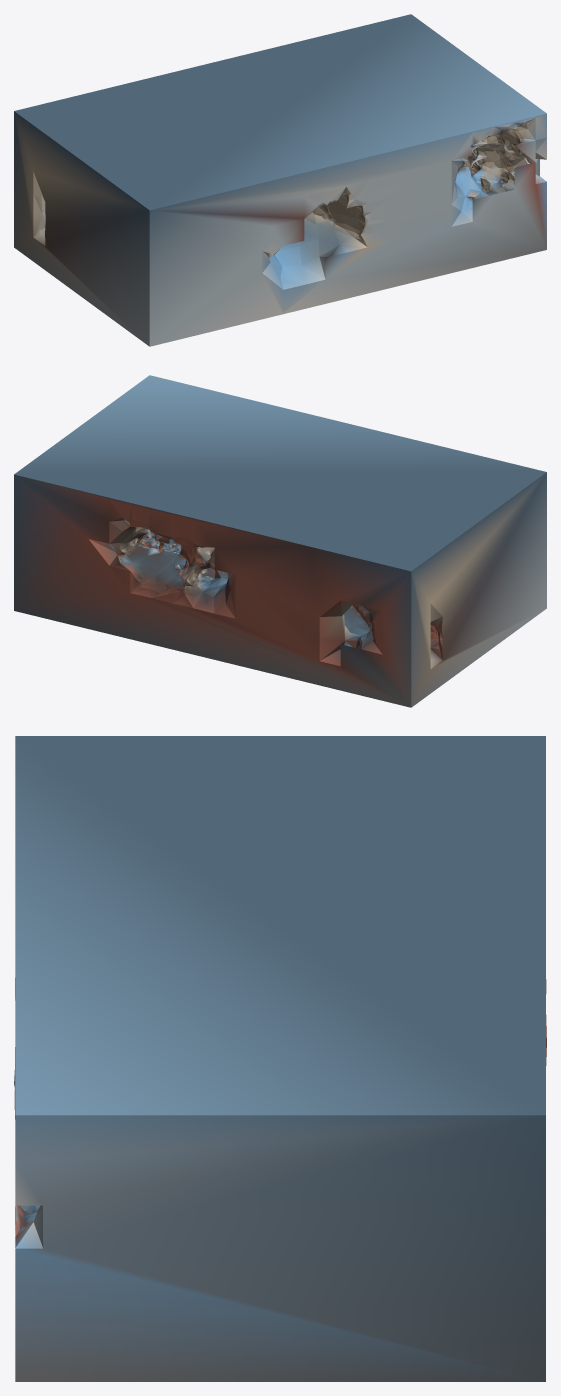
Rendered from floor03.glb.
3 renders of one model, top to bottom at view 1: azimuth 30°, elevation 25°; view 2: azimuth 150°, elevation 25°; view 3: azimuth 270°, elevation 25°, orthographic. The views are drawn at different scales.
Parts seen in each view (by area): view 1: node_0; view 2: node_0; view 3: node_0.
Boxes of the visible parts, x1,y1,x2,y2 form: node_0: (14, 14, 546, 346); node_0: (14, 375, 546, 707); node_0: (14, 736, 546, 1381).
Bounding box in the file's own units: 59.35 × 19.48 × 35.26.
